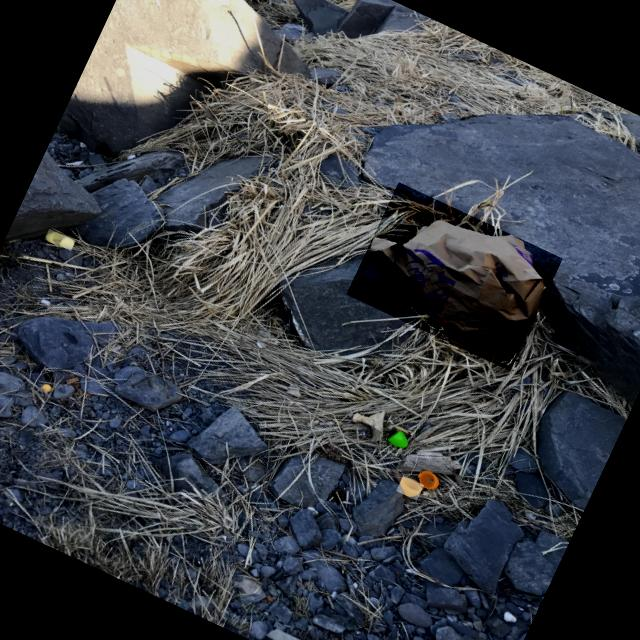Other plastic bottle: (400, 478, 421, 497), (418, 471, 438, 489), (387, 431, 407, 448), (45, 232, 62, 246), (59, 238, 73, 248), (42, 385, 51, 393)
Paper: (369, 220, 542, 350)
Unlabeled litter: (554, 333, 581, 352)
